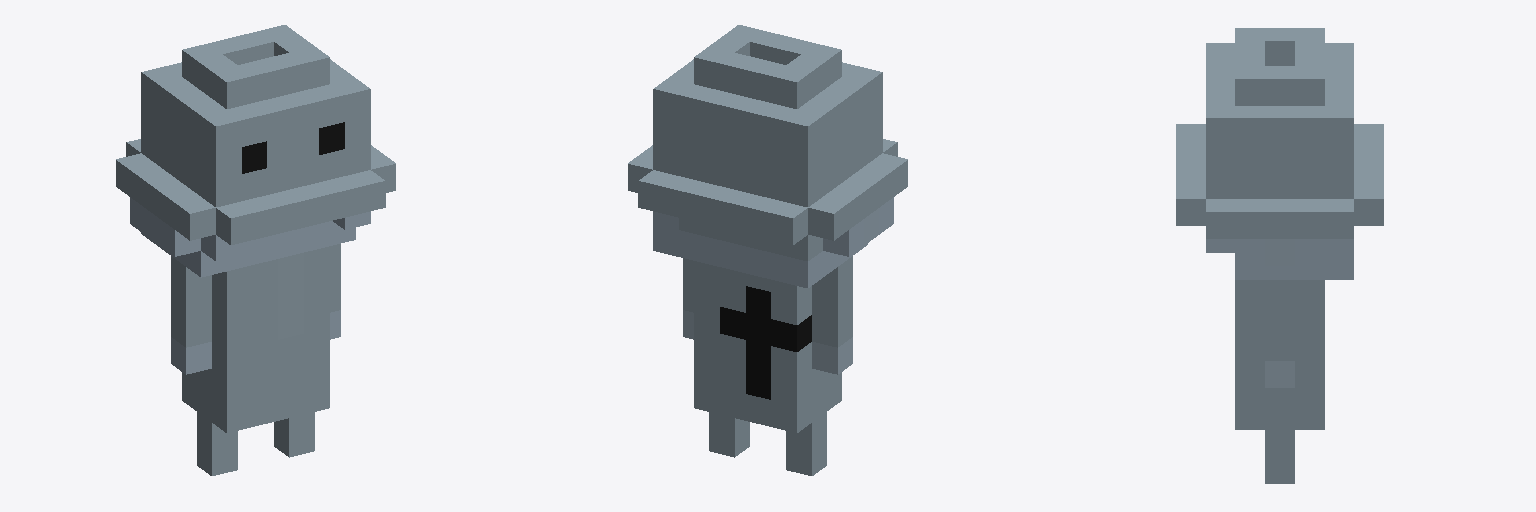
3 renders of one model, left to right at view 1: azimuth 30°, elevation 25°; view 2: azimuth 150°, elevation 25°; view 3: azimuth 270°, elevation 25°, orthographic.
Parts seen in each view (by area): view 1: boy1-2; view 2: boy1-2; view 3: boy1-2.
Boxes of the visible parts, x1,y1,x2,y2 form: boy1-2: [116, 25, 395, 475]; boy1-2: [628, 25, 907, 475]; boy1-2: [1176, 28, 1383, 483].
Size of the model in its own units: 8 by 15 by 7.
Materials: 1 (1 with a texture image).